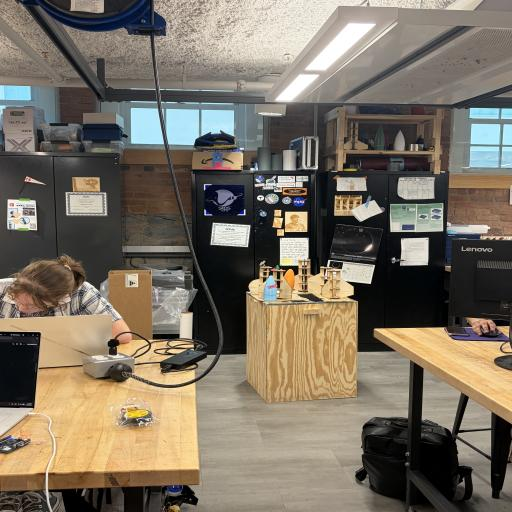Green-Lego: (275, 265, 280, 270)
